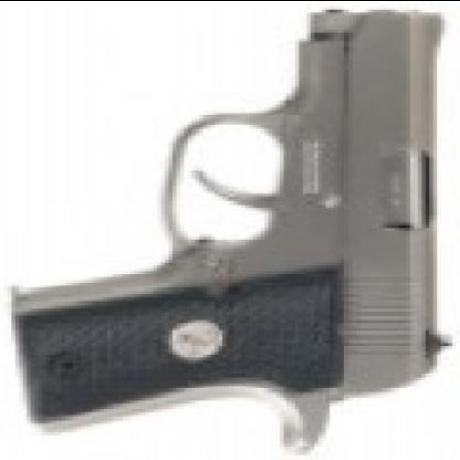weapon: (11, 6, 443, 444)
